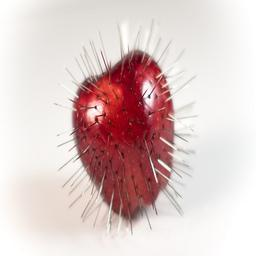apple: (67, 48, 183, 215)
